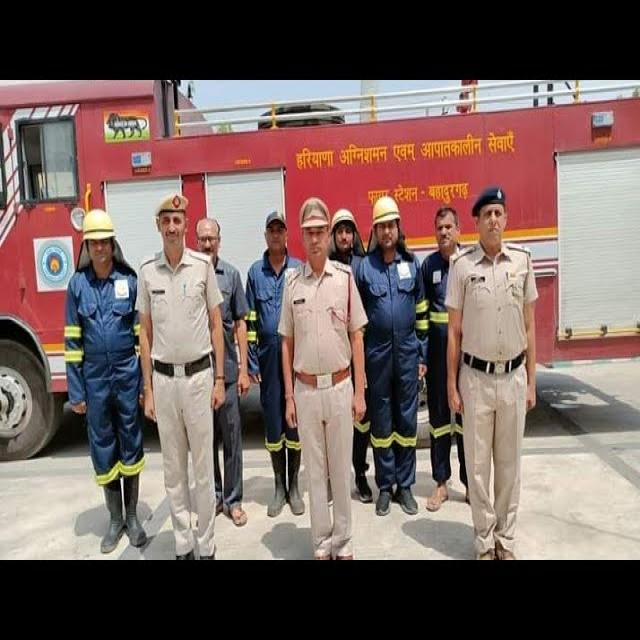emergency: (0, 82, 640, 458)
